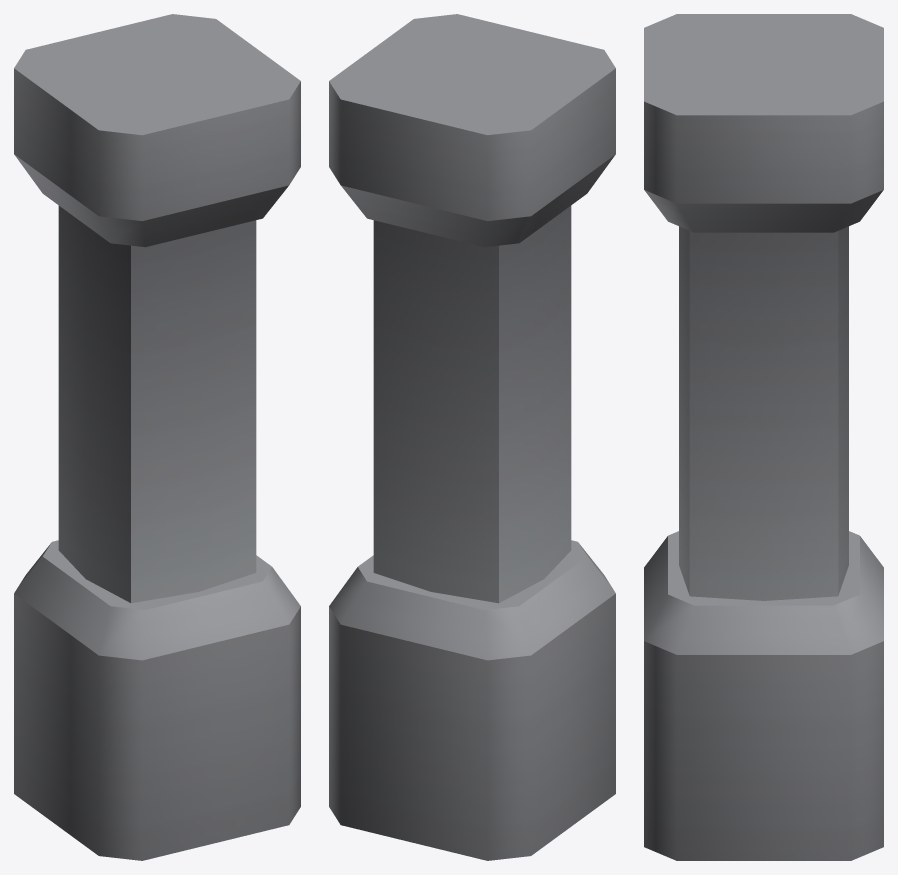
The model's file is border-pillar.glb.
3 views of the same model, side by side, from view 1: azimuth 30°, elevation 25°; view 2: azimuth 150°, elevation 25°; view 3: azimuth 270°, elevation 25° (orthographic). The views are drawn at different scales.
Visible parts, largest first — view 1: border-pillar; view 2: border-pillar; view 3: border-pillar.
Boxes of the visible parts, bbox=[...] form: border-pillar: bbox=[14, 14, 300, 860]; border-pillar: bbox=[329, 14, 615, 860]; border-pillar: bbox=[644, 14, 883, 860].
Bounding box in the file's own units: 0.3323 × 1.14 × 0.3323.
1 material, 1 textured.
